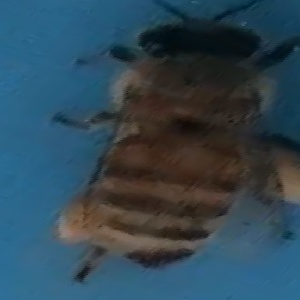bee: (45, 2, 295, 289)
